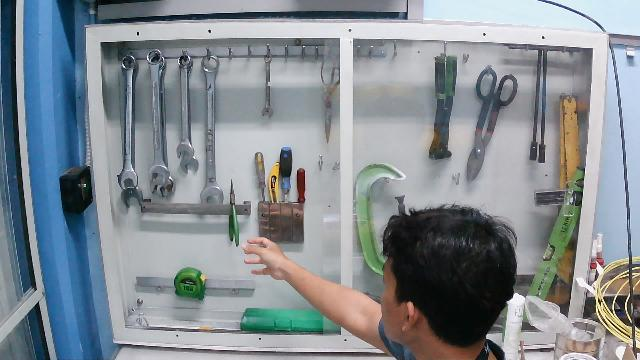tang_cucut_lancip_2: (222, 173, 247, 252)
